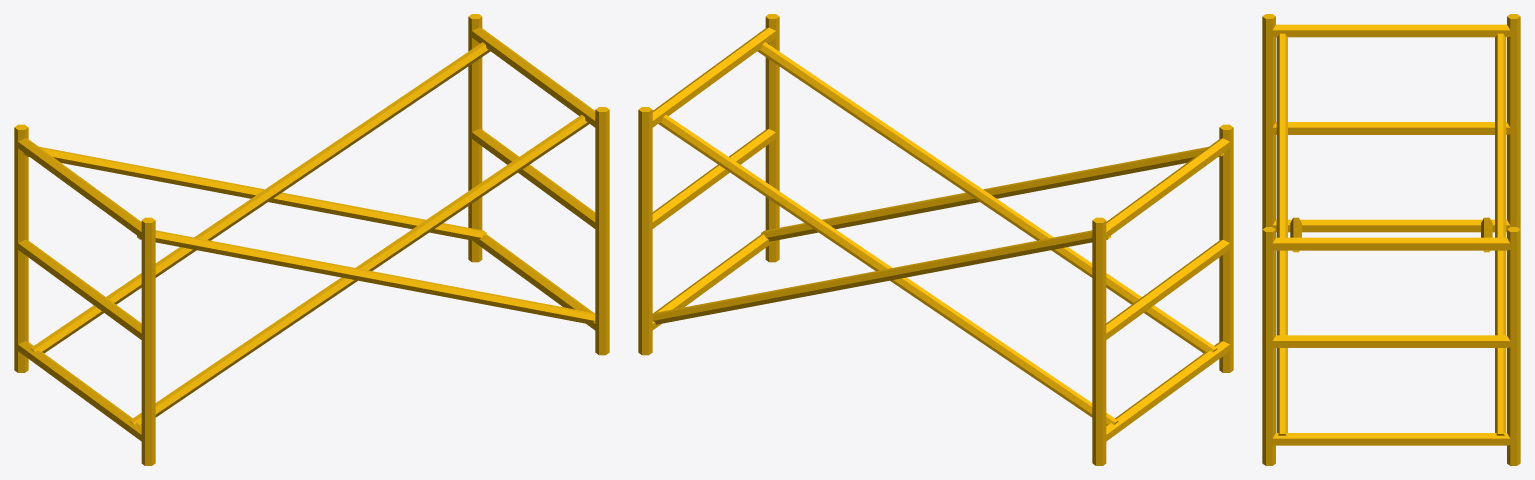
Rendered from Scaffold_Brace_Bearer_Yellow_01.FBX.
The picture shows the model from 3 angles, left to right: view 1: azimuth 30°, elevation 25°; view 2: azimuth 150°, elevation 25°; view 3: azimuth 270°, elevation 25°; orthographic projection. The views are drawn at different scales.
Parts seen in each view (by area): view 1: Scaffold_Brace_Bearer_Yellow_01; view 2: Scaffold_Brace_Bearer_Yellow_01; view 3: Scaffold_Brace_Bearer_Yellow_01.
Boxes of the visible parts, x1,y1,x2,y2 form: Scaffold_Brace_Bearer_Yellow_01: [14, 14, 609, 465]; Scaffold_Brace_Bearer_Yellow_01: [638, 14, 1233, 465]; Scaffold_Brace_Bearer_Yellow_01: [1262, 14, 1520, 465].
Bounding box in the file's own units: 7260 × 3630 × 3630.
